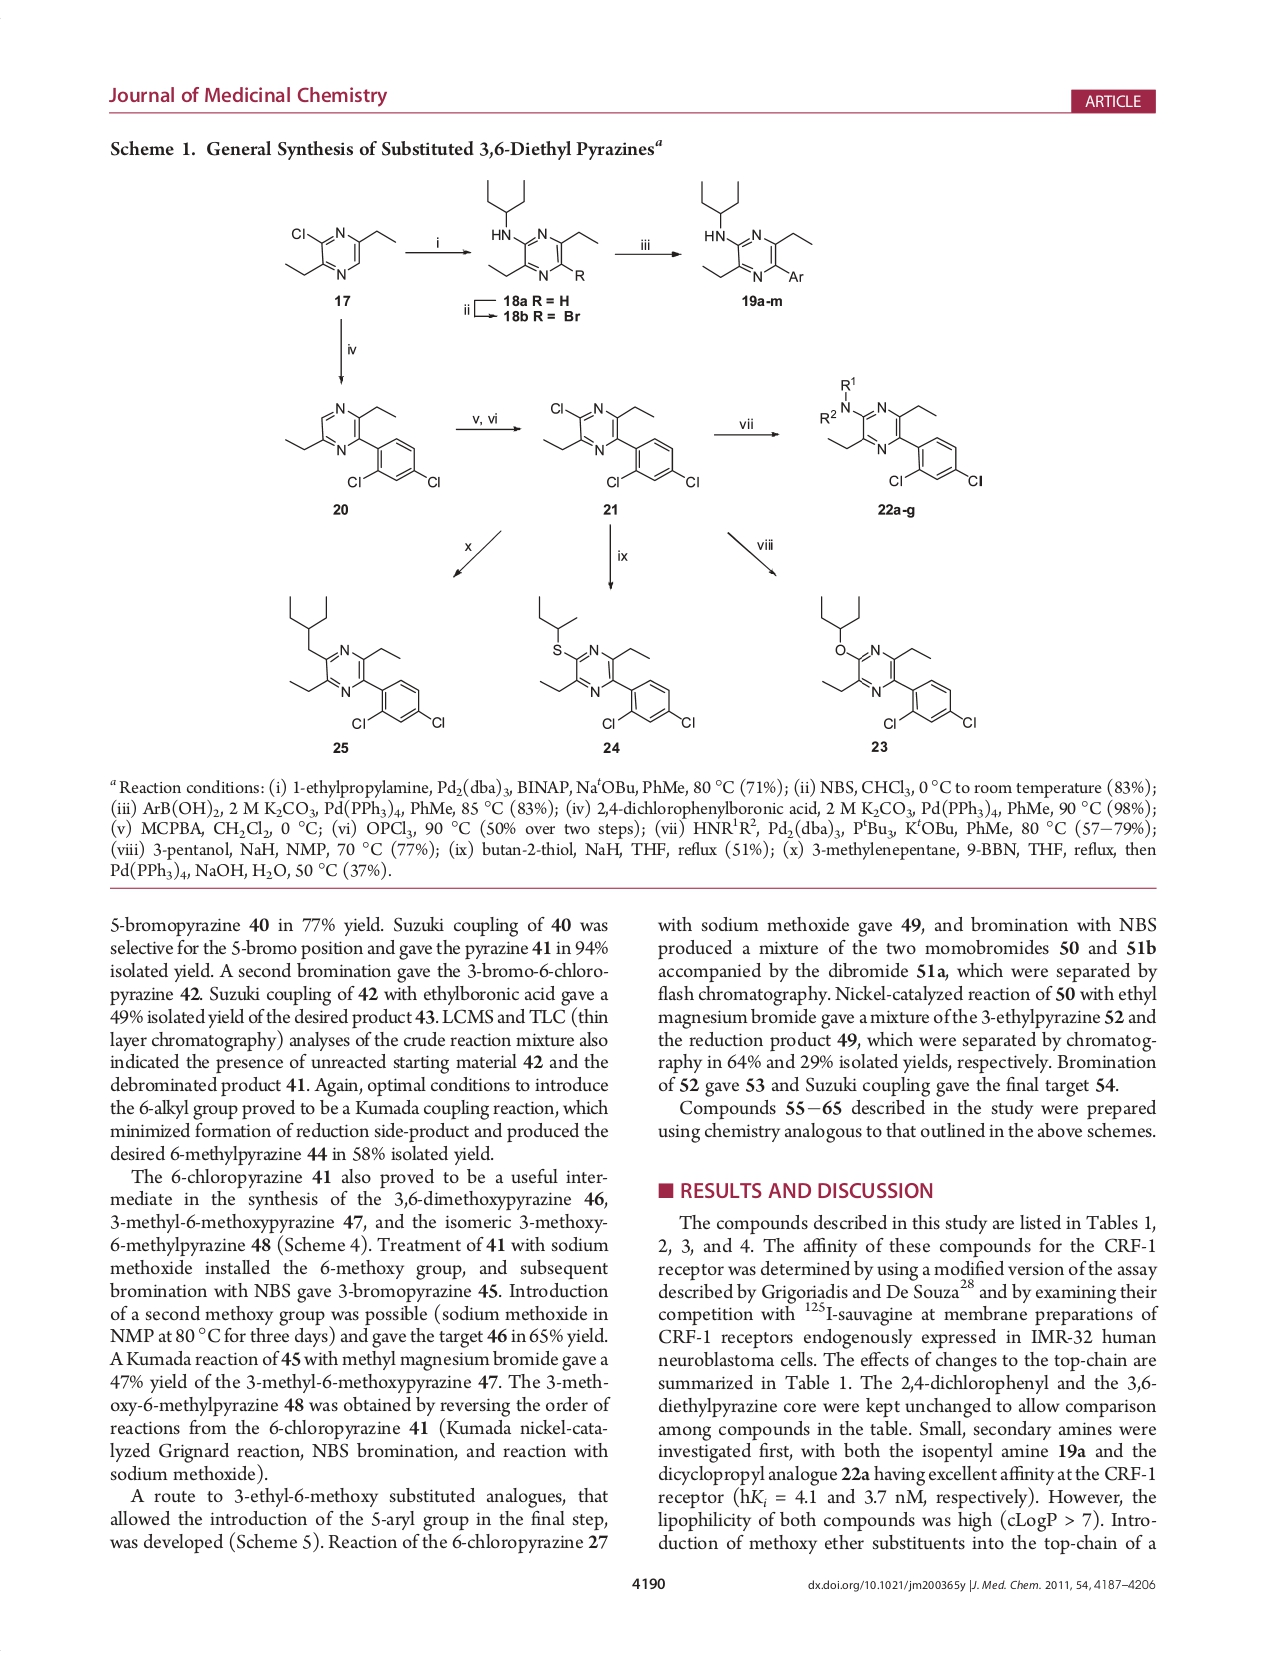exist_molecular: (531, 590, 698, 735), (815, 590, 981, 733), (283, 590, 447, 734), (817, 374, 985, 493), (283, 395, 442, 493), (539, 400, 703, 492), (481, 174, 602, 286), (693, 178, 815, 286), (281, 223, 398, 282)
